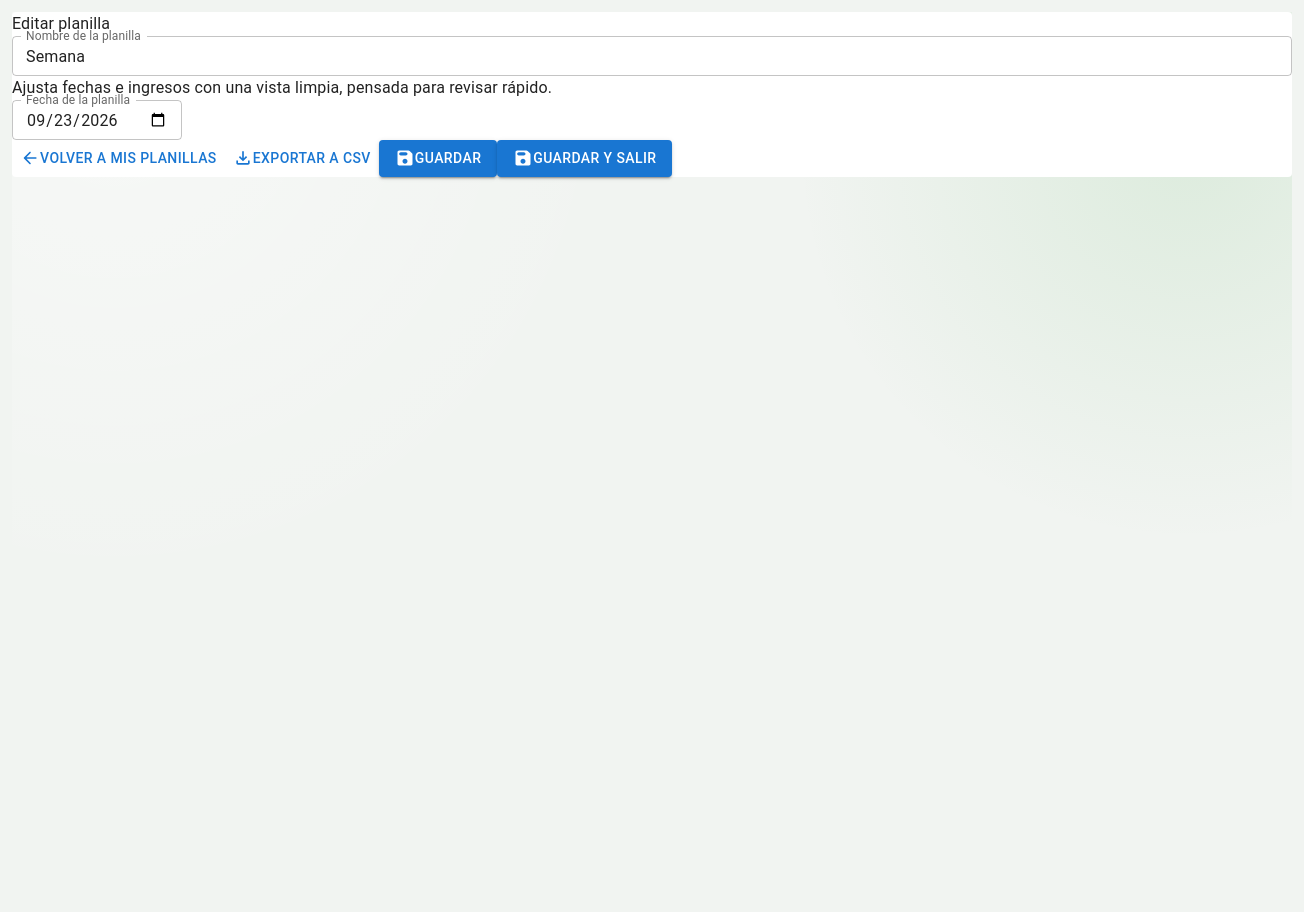
Test: DashboardDetailPanel CSV export › tells the user when the export fails
Click the button "Exportar a CSV": (302, 158) [225,140,379,176]
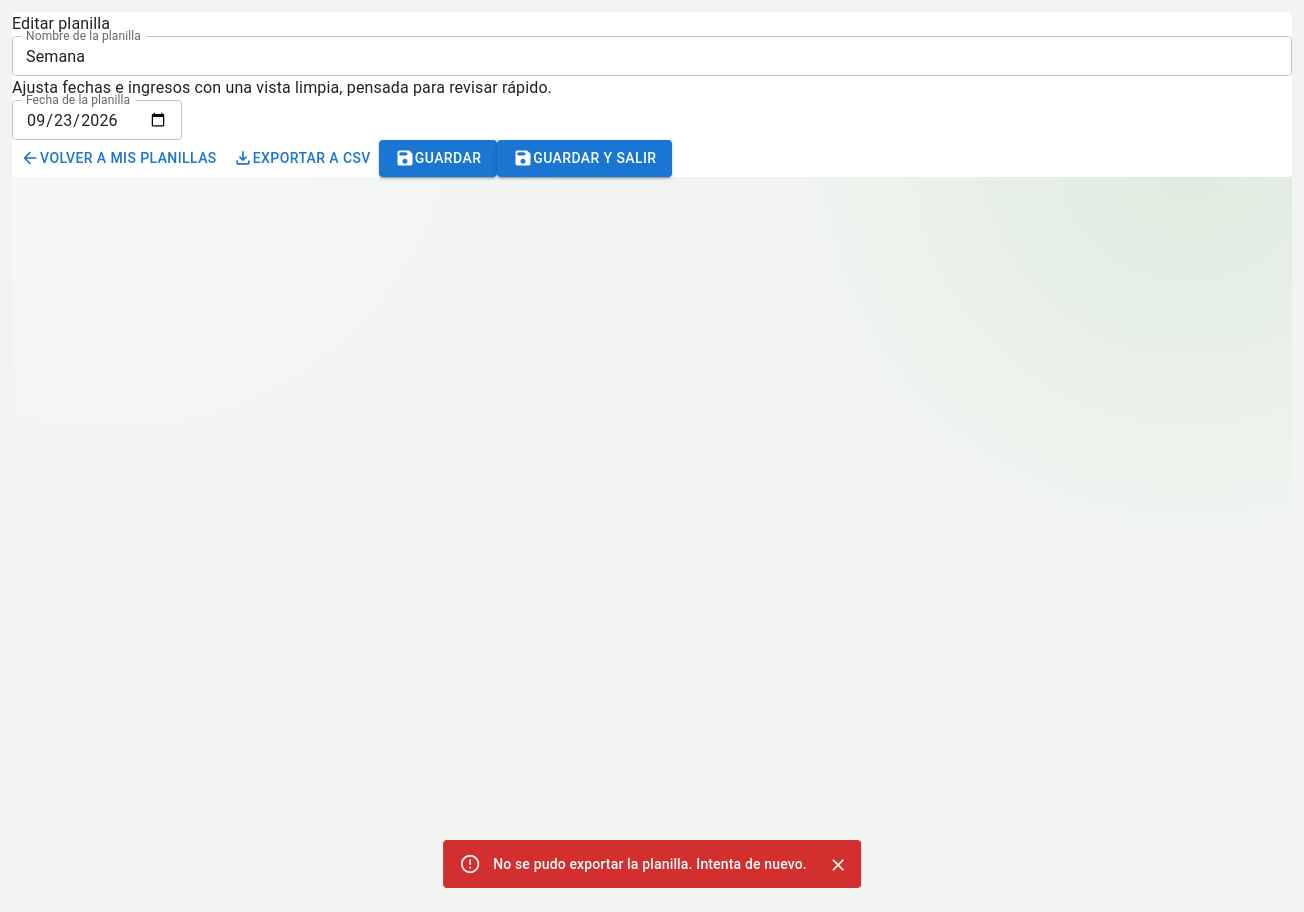
Check: the message shows "No se pudo exportar la planilla", box [493,856,807,872]
